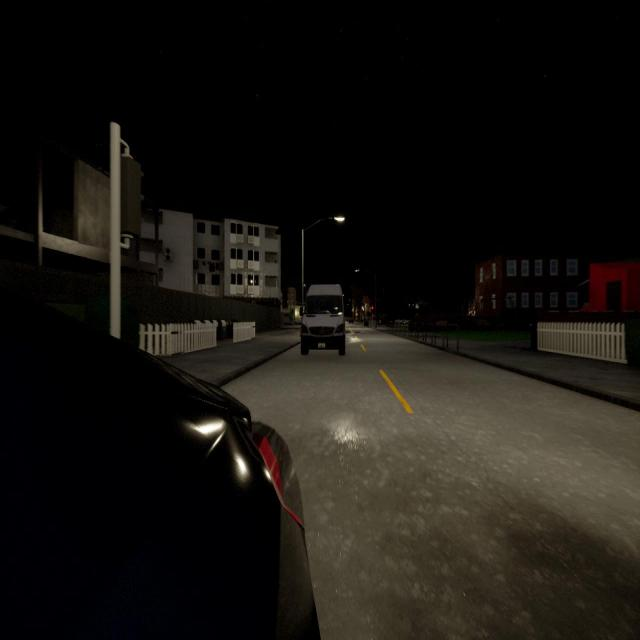Vehicle: (0, 288, 321, 640), (300, 286, 348, 356), (348, 318, 354, 324)
traffic_light: (371, 304, 374, 314)
